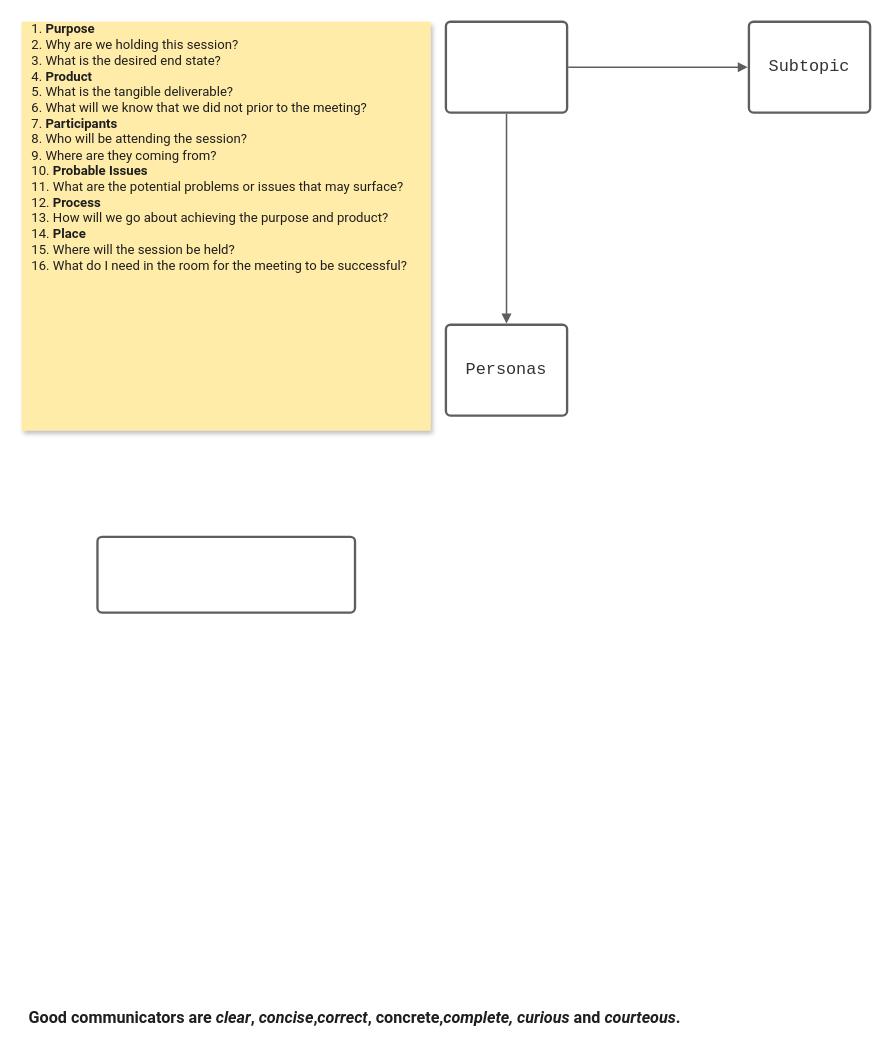
Image size: 889x1046. Some labels were removed from this diagram. The shapes that lost their labels are listed below. From the top down, each one's centre as x and y in pixels, then its label:
At point (506, 66): "Main Point".
At point (226, 574): "* : Important Fact or Decision ] : To Do > : To Do Others ? : Questions".
